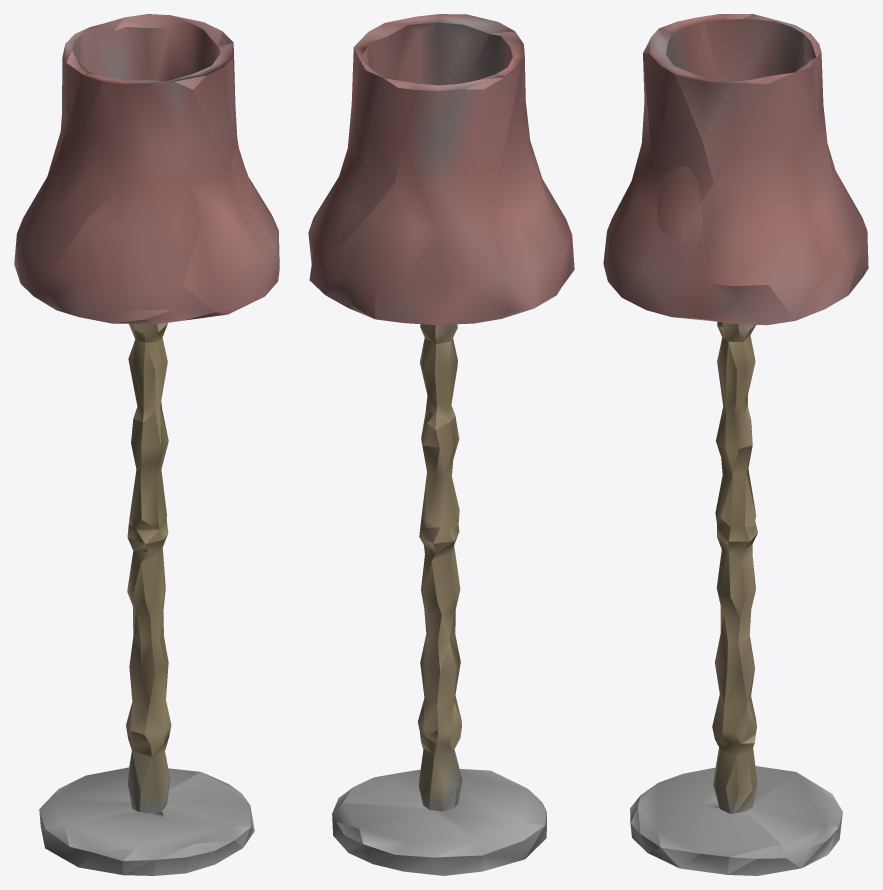
Rendered from LampFloor01.fbx.
3 renders of one model, left to right at view 1: azimuth 30°, elevation 25°; view 2: azimuth 150°, elevation 25°; view 3: azimuth 270°, elevation 25°, orthographic.
Visible parts, largest first — view 1: LampFloor01; view 2: LampFloor01; view 3: LampFloor01.
Part boxes in pixels (x1,y1,x2,y2): LampFloor01: (14, 14, 279, 875); LampFloor01: (308, 14, 574, 875); LampFloor01: (603, 14, 868, 875).
Bounding box in the file's own units: 59.27 × 192 × 58.69.
